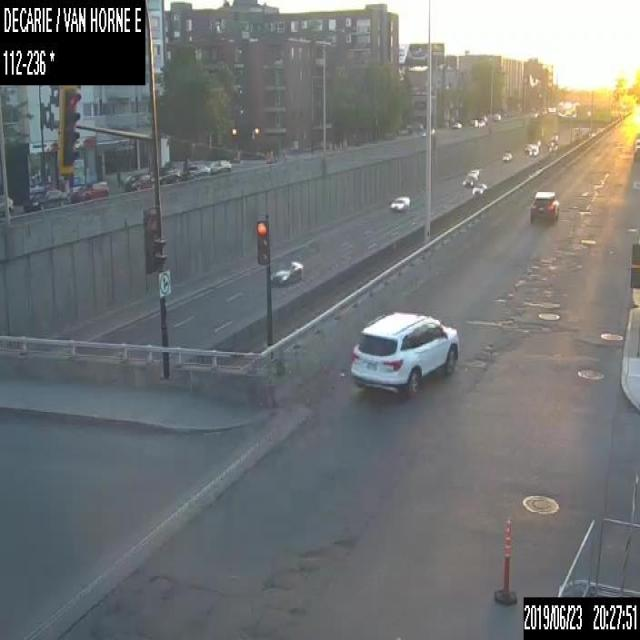construction: (493, 515, 520, 604)
vehicle: (349, 309, 459, 395), (23, 184, 65, 211), (529, 189, 560, 219), (272, 259, 303, 285), (71, 179, 109, 200), (150, 162, 180, 184), (124, 172, 152, 190), (389, 193, 410, 211), (0, 192, 14, 215), (187, 164, 209, 178), (210, 159, 231, 172), (471, 182, 487, 193), (462, 174, 474, 186), (633, 136, 639, 159), (529, 144, 538, 155), (467, 170, 477, 179), (502, 151, 511, 160), (452, 121, 461, 129), (524, 142, 530, 150)
